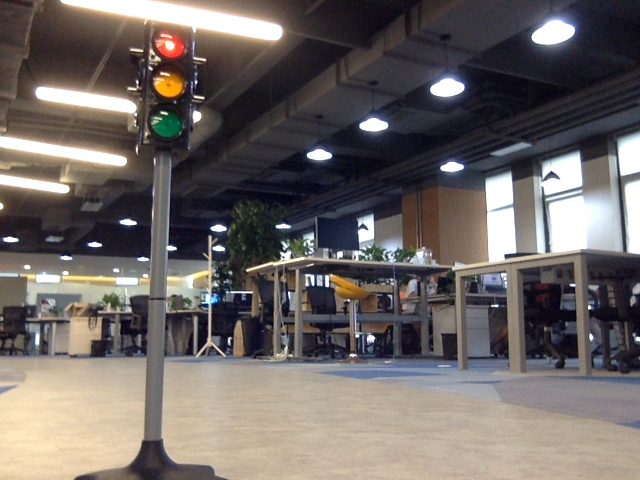red: (148, 31, 185, 138)
